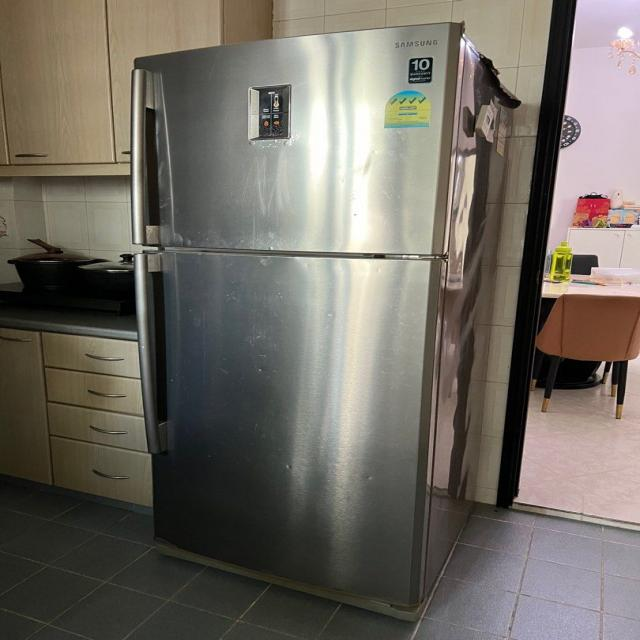refrigerator: (132, 22, 464, 614)
